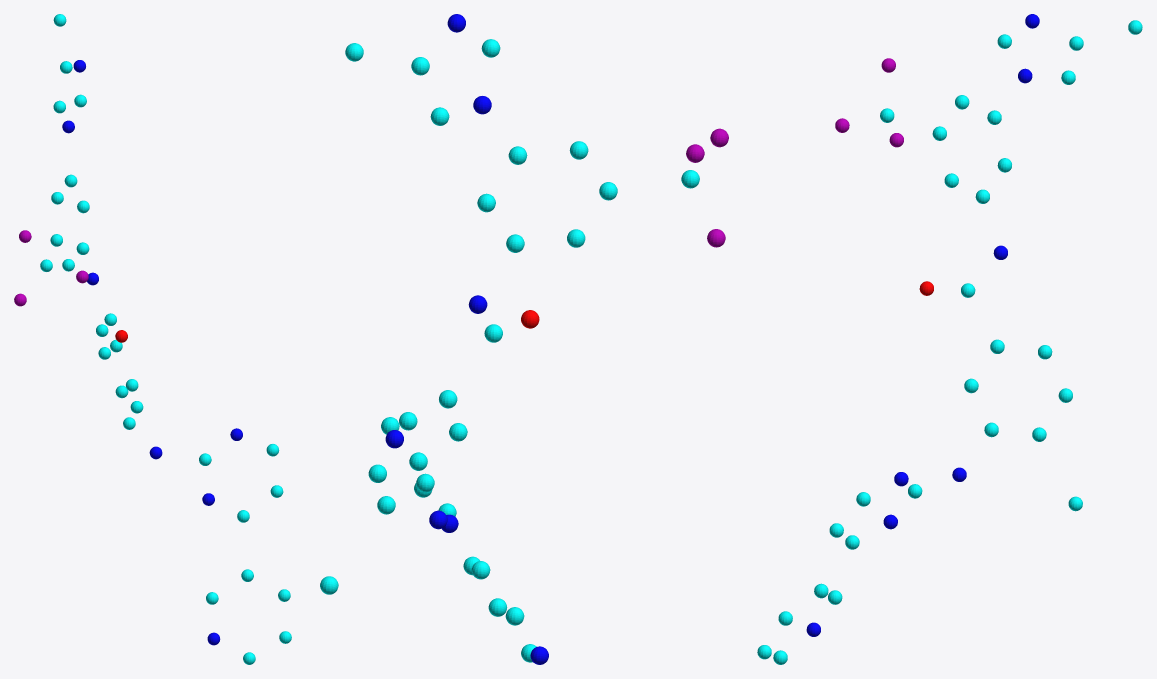
File: nil_d2.glb
The picture shows the model from 3 angles, left to right: view 1: azimuth 30°, elevation 25°; view 2: azimuth 150°, elevation 25°; view 3: azimuth 270°, elevation 25°; orthographic projection. The views are drawn at different scales.
Size of the model in its own units: 1.08 by 2.26 by 1.27.
